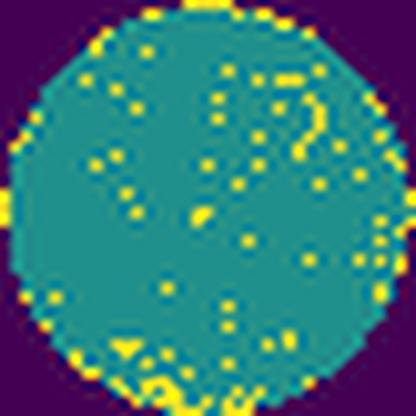Edge-Loc: (109, 372, 215, 415), (220, 377, 264, 415)
